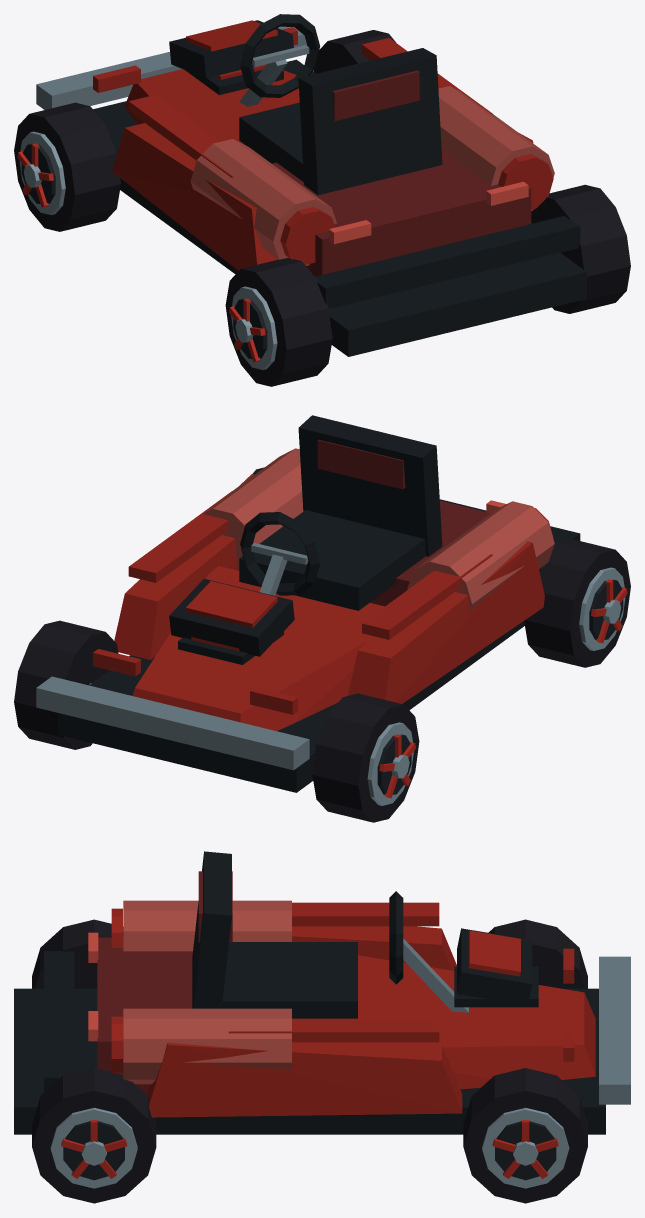
The model's file is kart.glb.
3 renders of one model, top to bottom at view 1: azimuth 30°, elevation 25°; view 2: azimuth 150°, elevation 25°; view 3: azimuth 270°, elevation 25°, orthographic.
Visible parts, largest first — view 1: chassis, wheel-rear-left, wheel-front-left, wheel-rear-right, wheel-front-right; view 2: chassis, wheel-front-left, wheel-rear-left, wheel-front-right; view 3: chassis, wheel-front-right, wheel-rear-right, wheel-front-left, wheel-rear-left.
Part boxes in pixels (left/top/right/bottom): chassis: left=36, top=14, right=586, bottom=356; wheel-rear-left: left=225, top=258, right=332, bottom=386; wheel-front-left: left=14, top=102, right=120, bottom=231; wheel-rear-right: left=531, top=184, right=630, bottom=313; wheel-front-right: left=313, top=30, right=396, bottom=73; chassis: left=36, top=415, right=580, bottom=792; wheel-front-left: left=312, top=693, right=419, bottom=822; wheel-rear-left: left=524, top=538, right=630, bottom=667; wheel-front-right: left=14, top=620, right=118, bottom=749; chassis: left=14, top=851, right=630, bottom=1134; wheel-front-right: left=463, top=1068, right=587, bottom=1203; wheel-rear-right: left=32, top=1068, right=156, bottom=1203; wheel-front-left: left=488, top=919, right=587, bottom=988; wheel-rear-left: left=32, top=919, right=123, bottom=988.
Bounding box in the file's own units: 2.19 × 1.3 × 3.08.
